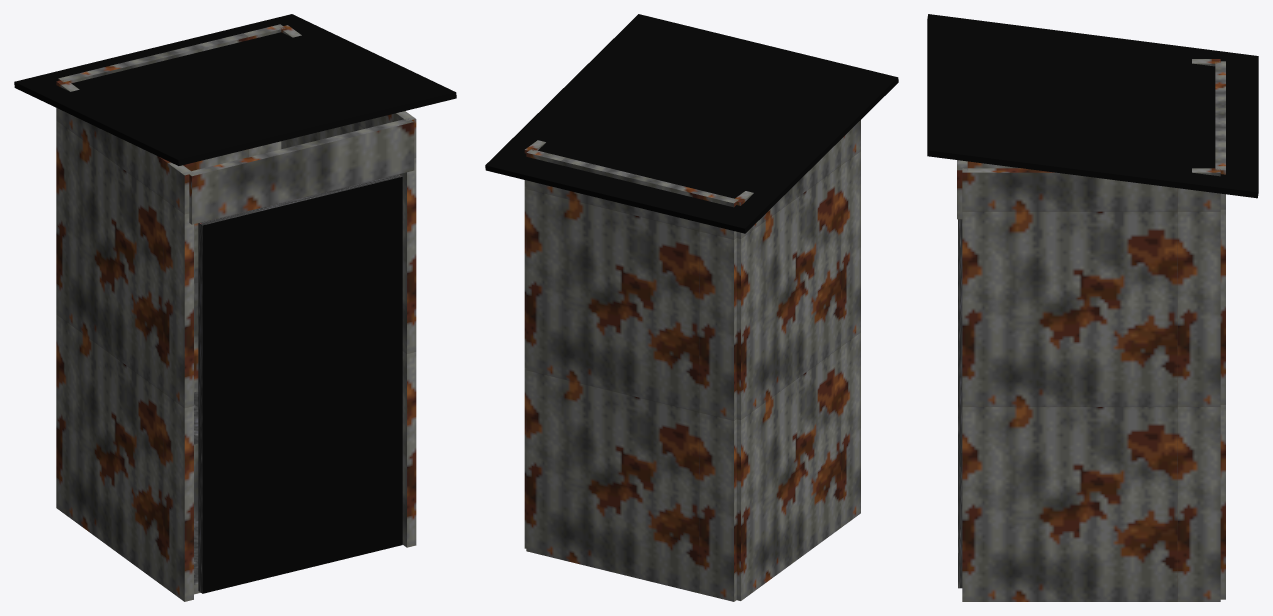
The model's file is SM_outhouse.fbx.
3 views of the same model, side by side, from view 1: azimuth 30°, elevation 25°; view 2: azimuth 150°, elevation 25°; view 3: azimuth 270°, elevation 25° (orthographic). The views are drawn at different scales.
Visible parts, largest first — view 1: outhouse, outhouse_door; view 2: outhouse; view 3: outhouse, outhouse_door.
Part boxes in pixels (<box>): outhouse: <box>14,14,456,601</box>; outhouse_door: <box>198,174,402,593</box>; outhouse: <box>485,14,898,601</box>; outhouse: <box>927,14,1258,601</box>; outhouse_door: <box>958,219,962,588</box>.
Bounding box in the file's own units: 1.5 × 2.37 × 1.54.
